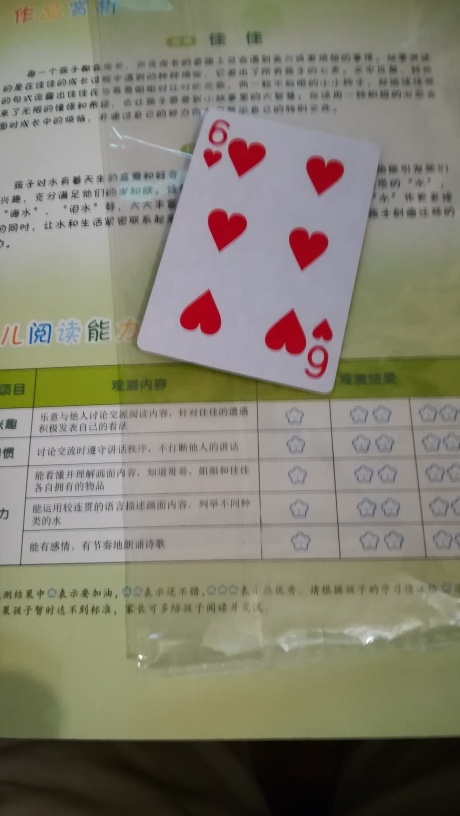hx 6: (134, 108, 379, 400)
